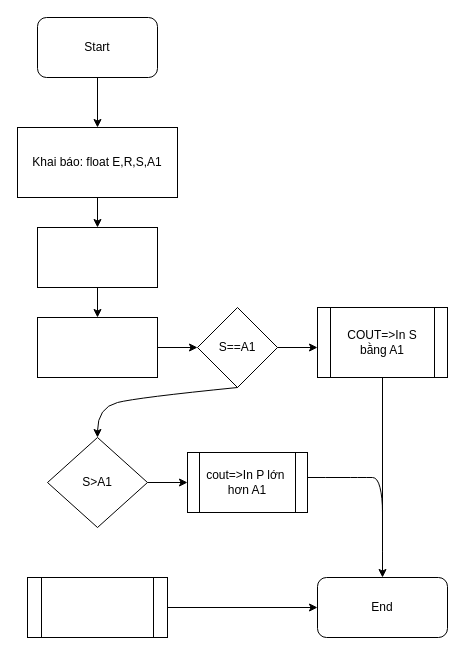
The diagram is 465 pixels wide and 655 high, and some of its shapes have lost their labels. Each missing label, with the centre of its shape:
"cout => In S nhỏ hơn A1" goes at pixel 97 607.
"Nhập R,E" goes at pixel 97 257.
"S=3,14*R*R A1=E*E" goes at pixel 97 347.
